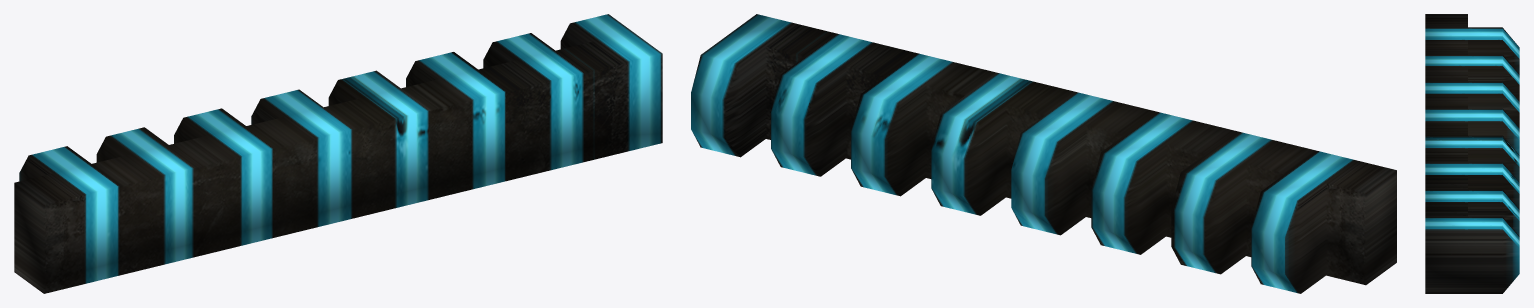
File: rail1.fbx
3 views of the same model, side by side, from view 1: azimuth 30°, elevation 25°; view 2: azimuth 150°, elevation 25°; view 3: azimuth 270°, elevation 25° (orthographic). The views are drawn at different scales.
Parts seen in each view (by area): view 1: Random_Gears_pCube6; view 2: Random_Gears_pCube6; view 3: Random_Gears_pCube6.
Boxes of the visible parts, x1,y1,x2,y2 form: Random_Gears_pCube6: (14, 14, 662, 293); Random_Gears_pCube6: (691, 14, 1396, 293); Random_Gears_pCube6: (1425, 14, 1519, 293).
Bounding box in the file's own units: 18.75 × 2.59 × 3.46.
1 material, 1 textured.
